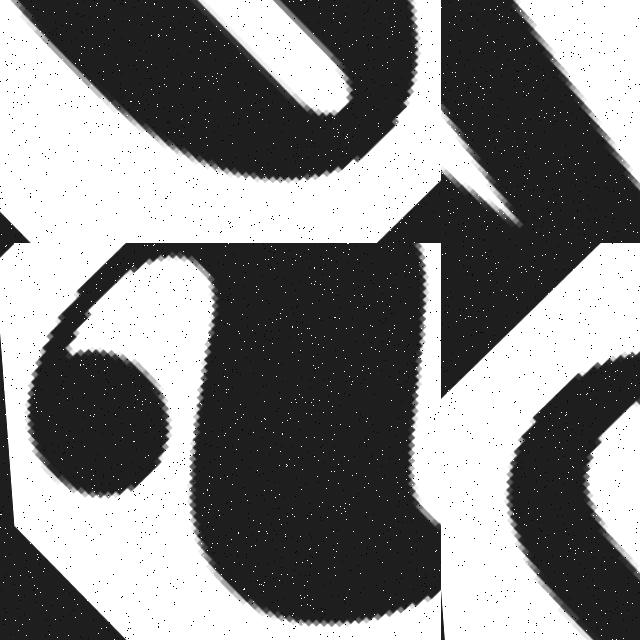N: (441, 243, 640, 640)
S: (0, 243, 441, 640)
W: (441, 0, 640, 243)
